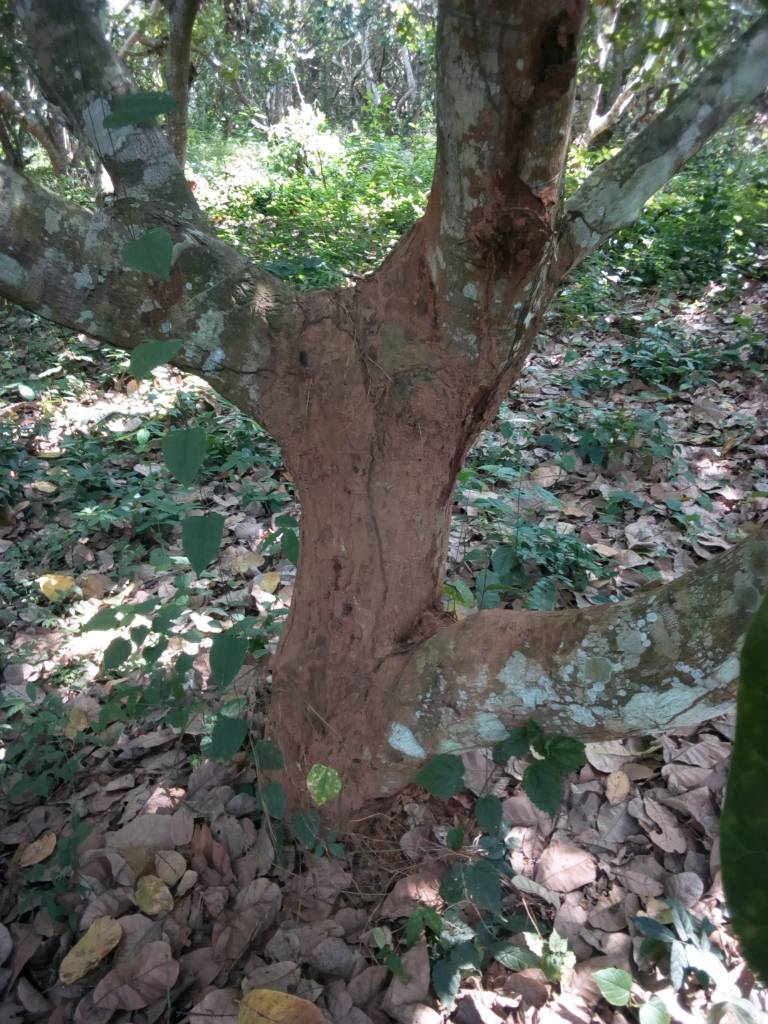Termites: (283, 307, 457, 774), (474, 161, 546, 414)
